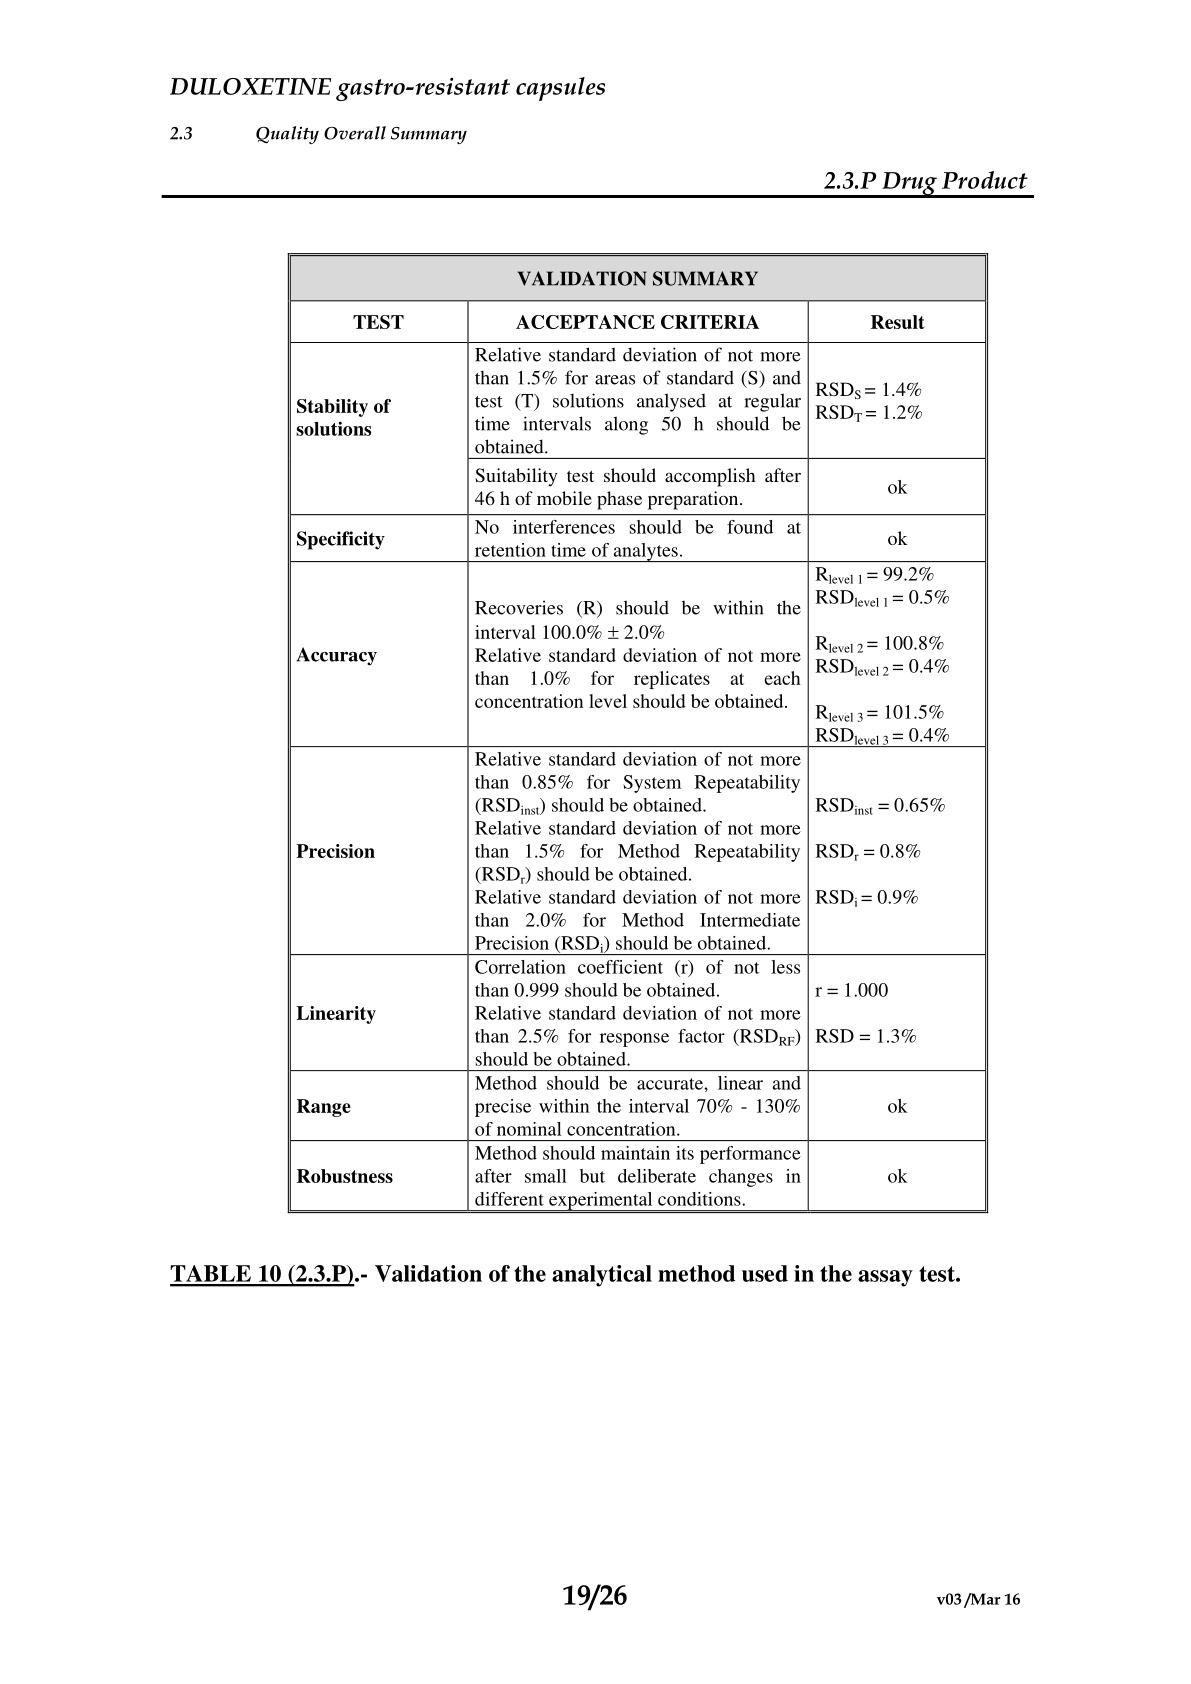merged_cells: (286, 253, 989, 1214)
